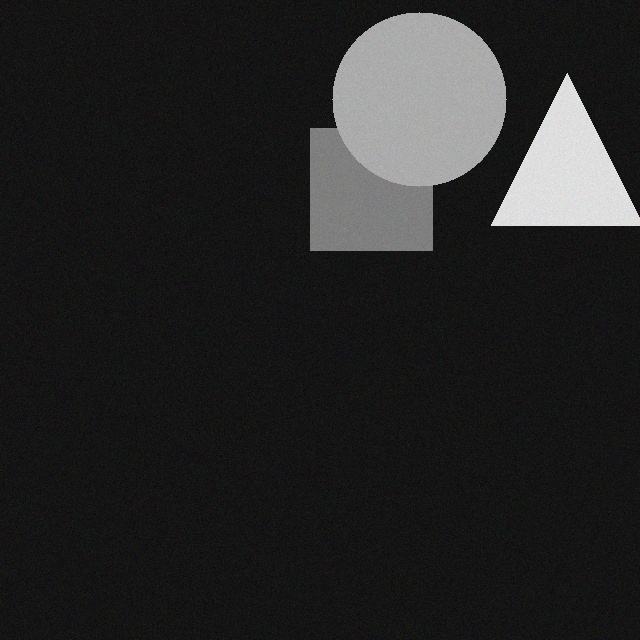circle: (317, 27, 491, 201)
square: (295, 143, 417, 265)
triangle: (476, 88, 628, 240)
